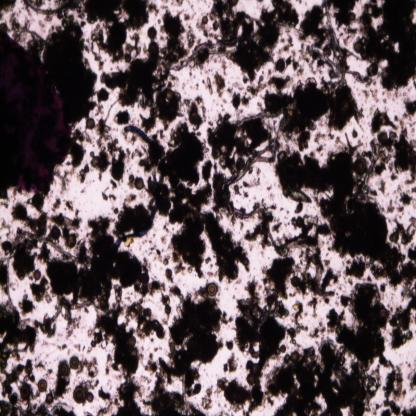Background material: (152, 123, 250, 284), (317, 149, 416, 297), (216, 254, 298, 416), (48, 213, 161, 308), (99, 10, 193, 123), (147, 285, 227, 415), (191, 0, 300, 84), (266, 338, 378, 415), (267, 76, 362, 151), (86, 307, 148, 415), (349, 0, 416, 96), (326, 280, 388, 364), (86, 1, 150, 61), (69, 27, 97, 132), (295, 246, 333, 312), (209, 112, 247, 177), (0, 298, 38, 363), (300, 0, 328, 77), (20, 0, 86, 30), (36, 295, 76, 337), (387, 130, 416, 184), (389, 296, 416, 352), (379, 356, 404, 416), (230, 72, 267, 111), (12, 201, 50, 238), (128, 302, 164, 341), (0, 361, 23, 414), (12, 236, 37, 282), (285, 298, 309, 343), (282, 33, 304, 79), (386, 182, 416, 213), (108, 137, 126, 187), (22, 400, 77, 416), (389, 217, 416, 246), (50, 212, 82, 236), (88, 148, 109, 184), (69, 130, 87, 170), (395, 97, 416, 130), (370, 107, 396, 133), (27, 278, 52, 304), (9, 12, 30, 42), (96, 103, 110, 147), (185, 97, 209, 119), (313, 129, 334, 154), (205, 74, 226, 97), (16, 293, 36, 316), (79, 358, 99, 379), (143, 351, 159, 376), (53, 376, 70, 399), (232, 179, 250, 200), (37, 242, 52, 267), (0, 256, 9, 297), (36, 360, 54, 378), (224, 352, 238, 374), (0, 0, 18, 16), (362, 86, 380, 102), (201, 388, 214, 410), (77, 164, 91, 184), (407, 361, 416, 392), (97, 385, 112, 403), (185, 25, 196, 49), (115, 110, 130, 127), (0, 236, 12, 257), (96, 88, 111, 104), (161, 296, 172, 317), (400, 402, 416, 416), (244, 177, 260, 191), (100, 190, 118, 202), (63, 197, 74, 213), (51, 197, 62, 211), (80, 380, 99, 388), (350, 127, 361, 140), (224, 338, 234, 352), (272, 219, 282, 233), (165, 267, 173, 282), (56, 343, 68, 351), (175, 0, 184, 6)
Cellulose filter fibre: (221, 105, 320, 251), (324, 1, 349, 92)
Cotton: (114, 123, 163, 248)
Diatom: (283, 189, 312, 204), (72, 386, 87, 404), (310, 322, 326, 338), (31, 193, 44, 208), (354, 160, 367, 175), (66, 233, 77, 249), (50, 226, 61, 240), (69, 356, 80, 370), (20, 384, 30, 399), (206, 284, 218, 296), (378, 308, 388, 322), (58, 363, 68, 377), (38, 378, 48, 392), (134, 177, 144, 190), (147, 26, 157, 39), (190, 112, 200, 125), (246, 372, 256, 385), (86, 117, 96, 130), (276, 59, 286, 72), (44, 392, 54, 404), (378, 132, 388, 144), (311, 252, 320, 265), (290, 351, 300, 362), (291, 276, 300, 288), (236, 158, 245, 170), (24, 363, 33, 375), (164, 90, 174, 100), (296, 216, 304, 228), (127, 336, 136, 346), (87, 392, 94, 404), (354, 44, 362, 54), (34, 270, 41, 280), (349, 12, 356, 21), (202, 16, 208, 24)
Pen: (0, 32, 69, 193)
